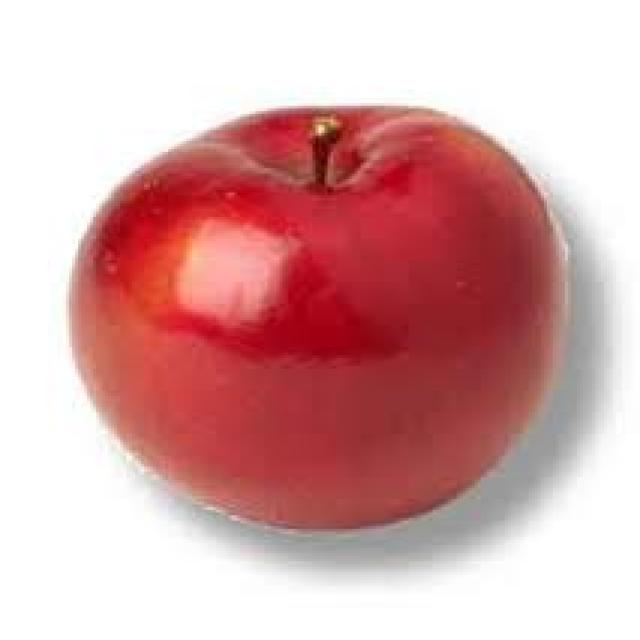apple: (39, 82, 580, 580)
